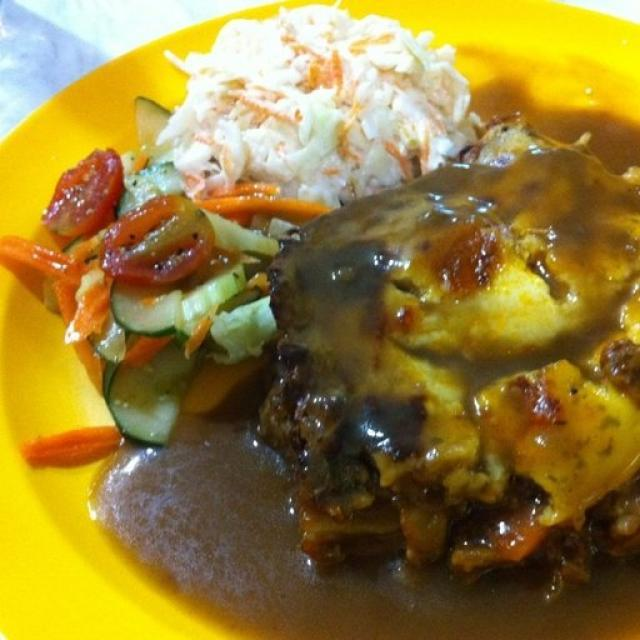Lasagna: (295, 168, 640, 582)
